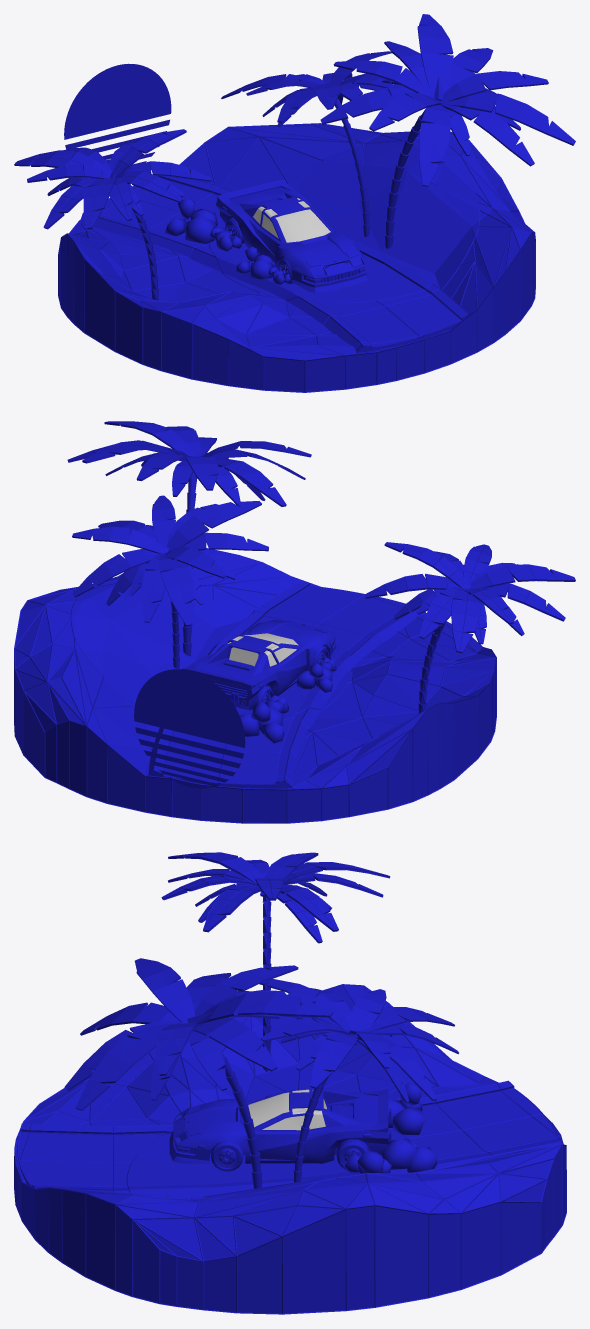
Rendered from car.obj.
The picture shows the model from 3 angles, top to bottom: view 1: azimuth 30°, elevation 25°; view 2: azimuth 150°, elevation 25°; view 3: azimuth 270°, elevation 25°; orthographic projection. The views are drawn at different scales.
Visible parts, largest first — view 1: Island, CarBody, Icosphere, CarBumper, Doors; view 2: Island, CarBody, Icosphere, Doors; view 3: Island, CarBody, Icosphere, Doors, Wheel_FL, CarBumper.
Part boxes in pixels (x1,y1,x2,y2): Island: (14, 14, 575, 392); CarBody: (216, 180, 366, 278); Icosphere: (165, 198, 290, 284); CarBumper: (291, 266, 368, 292); Doors: (251, 200, 336, 261); Island: (14, 421, 575, 823); CarBody: (181, 619, 335, 710); Icosphere: (239, 658, 336, 743); Doors: (231, 635, 306, 687); Island: (14, 852, 566, 1314); CarBody: (173, 1088, 391, 1163); Icosphere: (265, 1082, 437, 1173); Doors: (255, 1088, 310, 1160); Wheel_FL: (211, 1141, 243, 1171); CarBumper: (169, 1131, 210, 1163).
Size of the model in its own units: 8.91 by 4.12 by 7.68.
